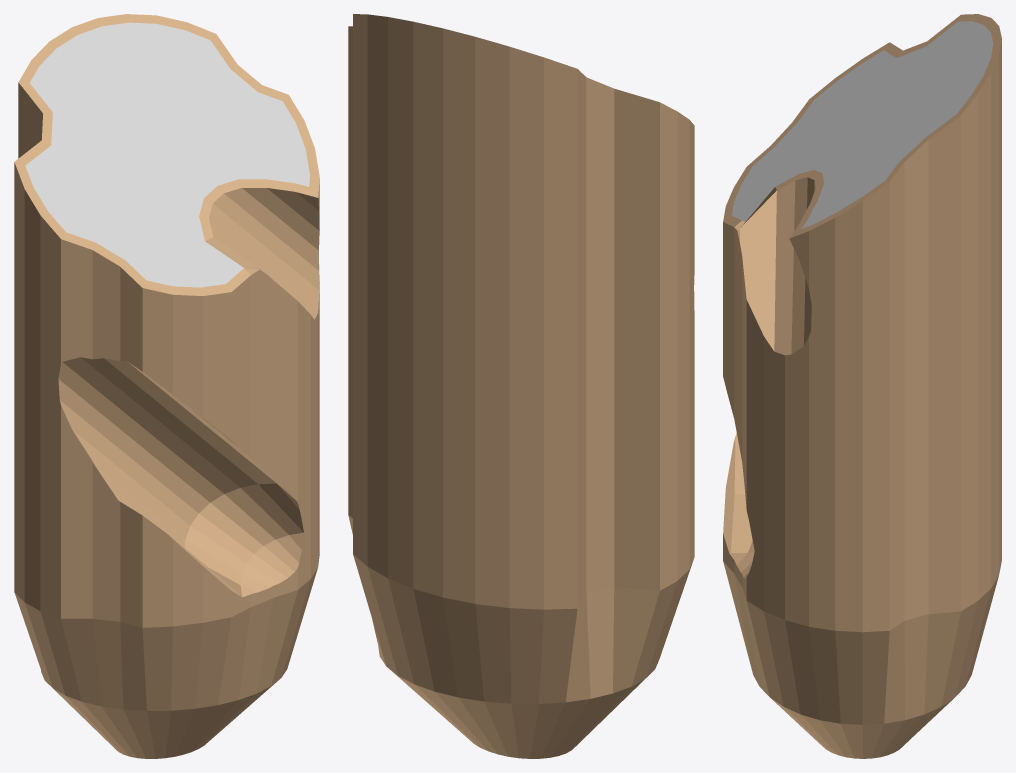
Rendered from bread-fbx.fbx.
The picture shows the model from 3 angles, left to right: view 1: azimuth 30°, elevation 25°; view 2: azimuth 150°, elevation 25°; view 3: azimuth 270°, elevation 25°; orthographic projection. The views are drawn at different scales.
Parts seen in each view (by area): view 1: bread, bread-chunk; view 2: bread; view 3: bread, bread-chunk.
Boxes of the visible parts, box(x1,y1,x2,y2) form: bread: box(14, 14, 319, 758); bread-chunk: box(240, 101, 319, 233); bread: box(348, 14, 694, 758); bread: box(723, 14, 1001, 758); bread-chunk: box(801, 177, 885, 227).
Size of the model in its own units: 35.37 by 42.77 by 98.33.
